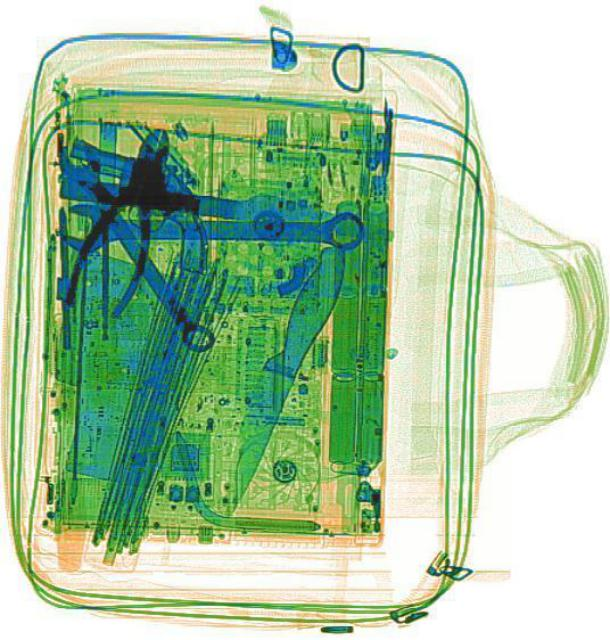Gun: (40, 133, 229, 275)
Knife: (198, 240, 352, 518), (61, 170, 350, 230)
Pliers: (56, 116, 189, 320)
Wrench: (48, 134, 225, 356), (59, 200, 361, 258)
